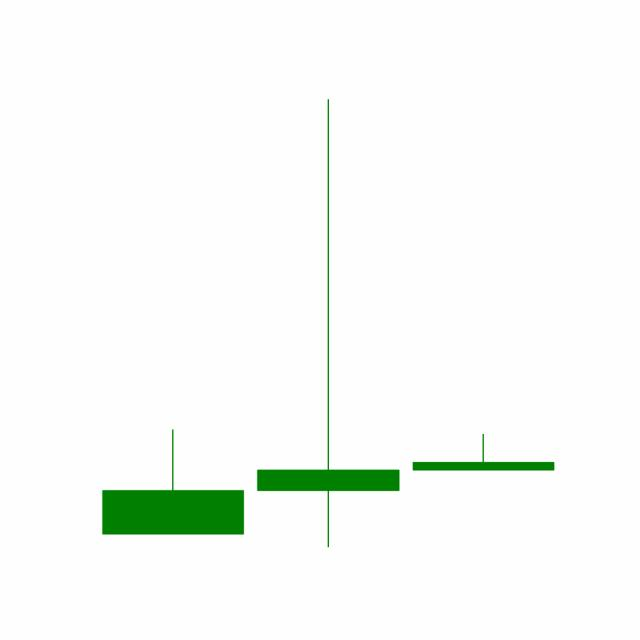Gravestone Doji: (405, 434, 561, 471)
